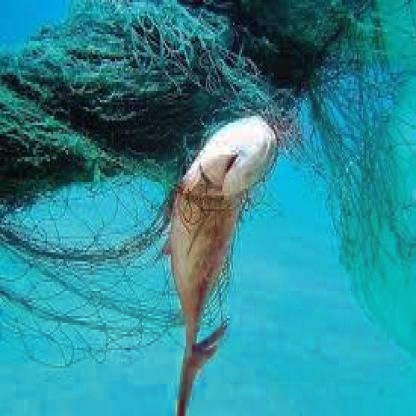net: (2, 2, 381, 182)
